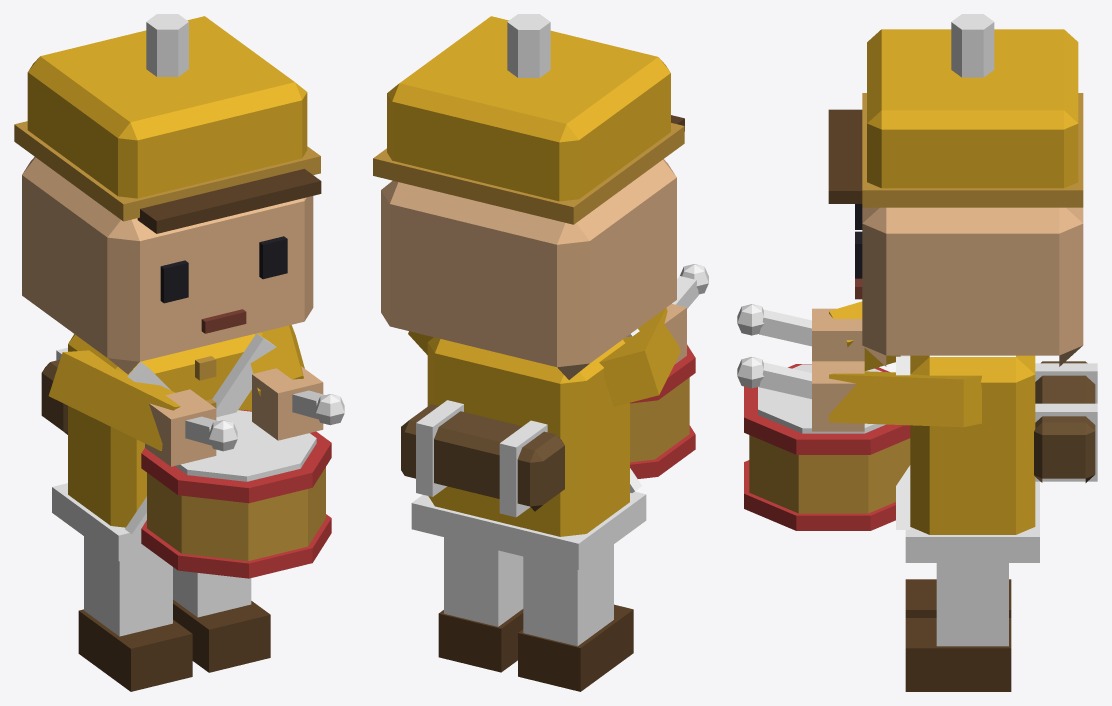
File: drummer_common.glb
3 views of the same model, side by side, from view 1: azimuth 30°, elevation 25°; view 2: azimuth 150°, elevation 25°; view 3: azimuth 270°, elevation 25° (orthographic).
Visible parts, largest first — view 1: drummer_common_mesh; view 2: drummer_common_mesh; view 3: drummer_common_mesh.
Boxes of the visible parts, <box> form: drummer_common_mesh: <box>14,14,344,691</box>; drummer_common_mesh: <box>373,14,708,691</box>; drummer_common_mesh: <box>737,14,1097,691</box>.
Size of the model in its own units: 0.535 by 1.3 by 0.6681.
1 material, 1 textured.
